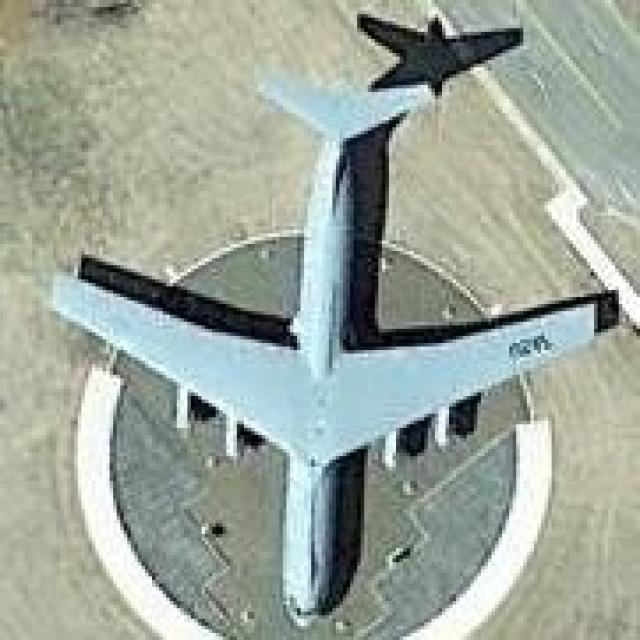C-5_TopDown: (55, 11, 624, 630)
